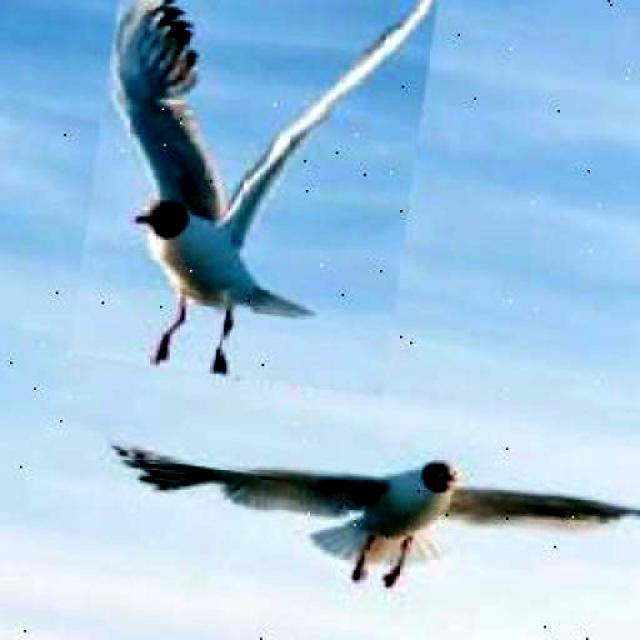airplane: (69, 0, 441, 396), (99, 411, 640, 640)
